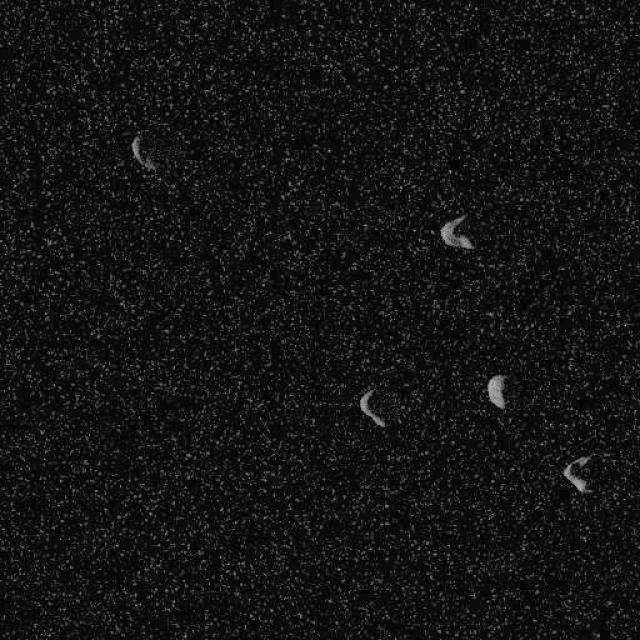D2: (438, 211, 474, 250), (357, 386, 385, 429), (562, 454, 592, 494), (129, 134, 156, 172), (486, 372, 506, 410)
